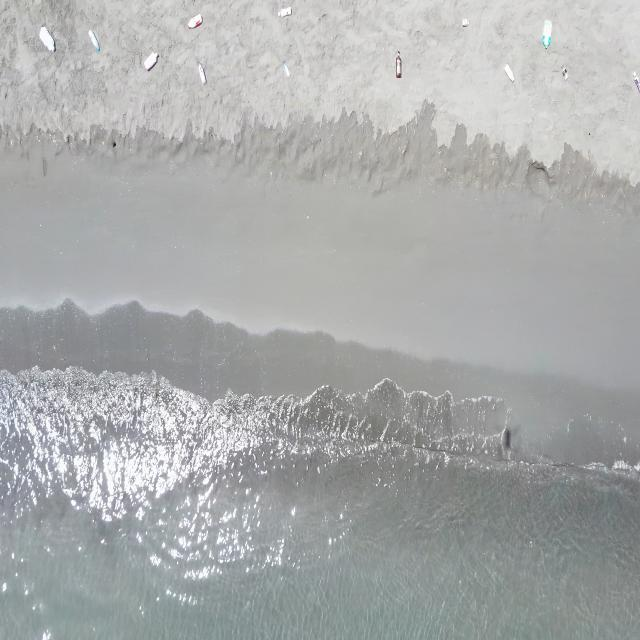plastic-bottle: (39, 24, 57, 54), (143, 51, 159, 73), (186, 11, 203, 30), (542, 19, 552, 50), (88, 29, 100, 54), (197, 61, 207, 86), (504, 62, 515, 84), (277, 5, 292, 20), (395, 52, 403, 80), (632, 69, 640, 92), (283, 62, 291, 78), (562, 66, 570, 80), (461, 16, 470, 28)
